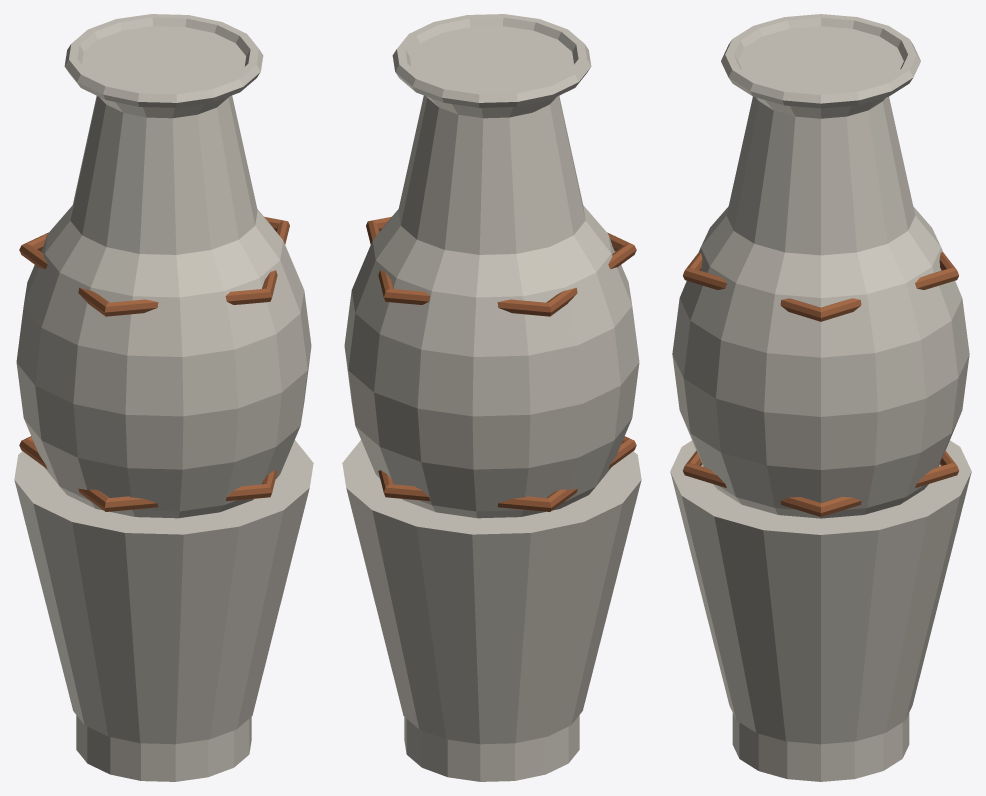
The model's file is vase_tall.glb.
3 renders of one model, left to right at view 1: azimuth 30°, elevation 25°; view 2: azimuth 150°, elevation 25°; view 3: azimuth 270°, elevation 25°, orthographic.
Visible parts, largest first — view 1: vase_tall; view 2: vase_tall; view 3: vase_tall.
Boxes of the visible parts, x1=… form: vase_tall: x1=14, y1=14, x2=313, y2=781; vase_tall: x1=342, y1=14, x2=641, y2=781; vase_tall: x1=670, y1=14, x2=971, y2=781.
Bounding box in the file's own units: 0.28 × 0.7069 × 0.28.
